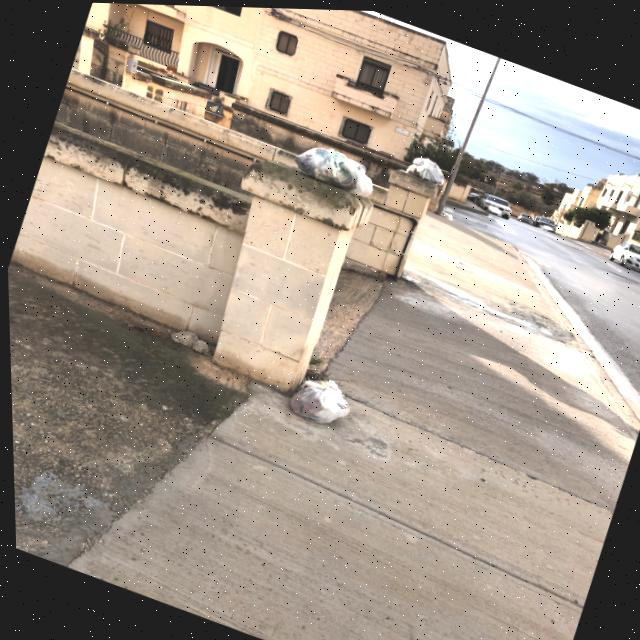Organic Waste -White Bag-: (288, 130, 386, 202), (281, 376, 353, 434), (402, 147, 453, 187), (303, 371, 343, 397)
